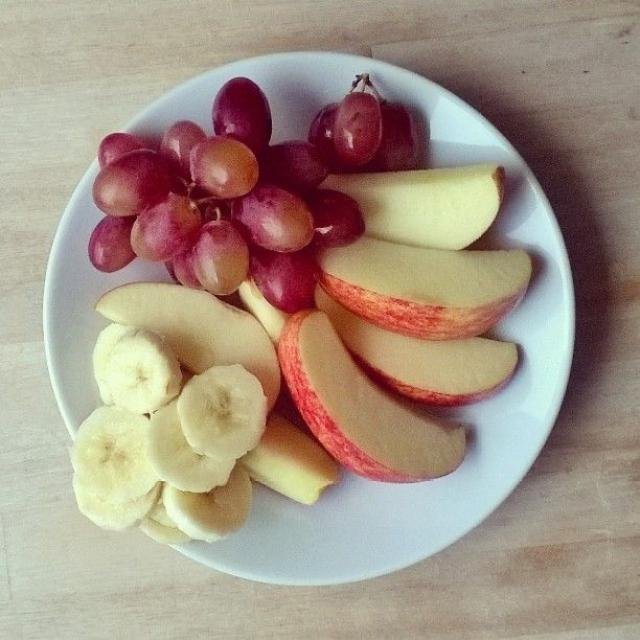apple: (280, 311, 465, 482), (317, 288, 518, 406), (96, 283, 280, 410), (318, 236, 531, 339), (322, 164, 504, 249), (239, 412, 339, 503)
banana slice: (177, 364, 266, 460), (72, 406, 158, 501), (148, 401, 235, 492), (99, 329, 181, 413), (164, 466, 252, 541), (74, 474, 162, 531), (93, 324, 134, 404), (140, 498, 190, 543), (140, 518, 190, 544)
grapes: (232, 183, 313, 252), (93, 150, 174, 216), (131, 193, 202, 260), (213, 76, 270, 155), (192, 220, 249, 294), (251, 249, 316, 313), (360, 102, 422, 169), (192, 136, 257, 199), (335, 90, 382, 164), (260, 140, 328, 191), (306, 188, 363, 247), (161, 120, 206, 180), (88, 216, 135, 272), (308, 104, 339, 172), (98, 133, 150, 166)
